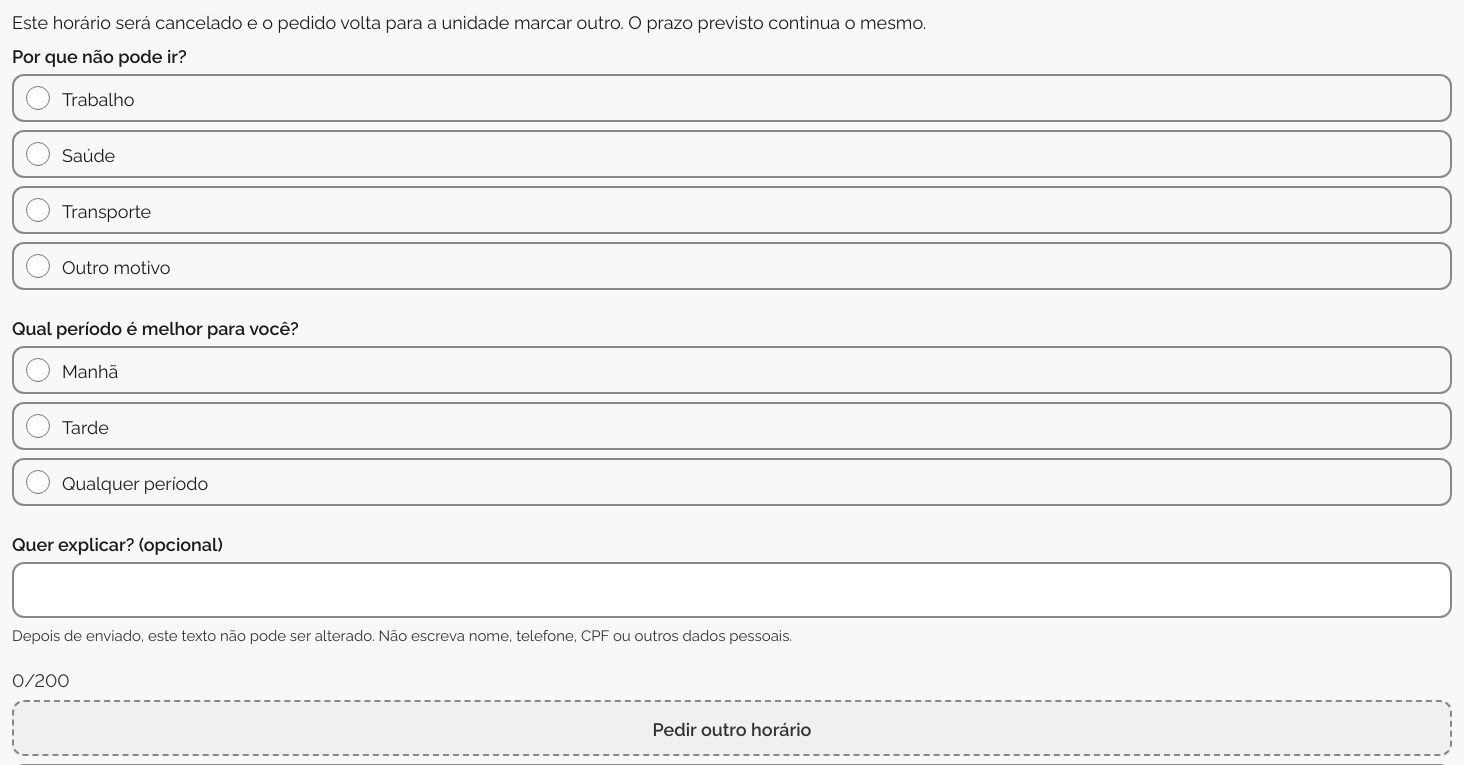
Test: RescheduleForm › explica o que acontece e só libera o envio com motivo e período
Expected: the text "Este horário será cancelado e o pedido volta para a unidade marcar outro. O prazo previsto continua o mesmo." is shown, [12,8,926,33]
Expected: the radio button labelled "Saúde" is shown, [26,142,50,166]
Click the radio button labelled "Trabalho" at (38, 98), box [26,86,50,110]
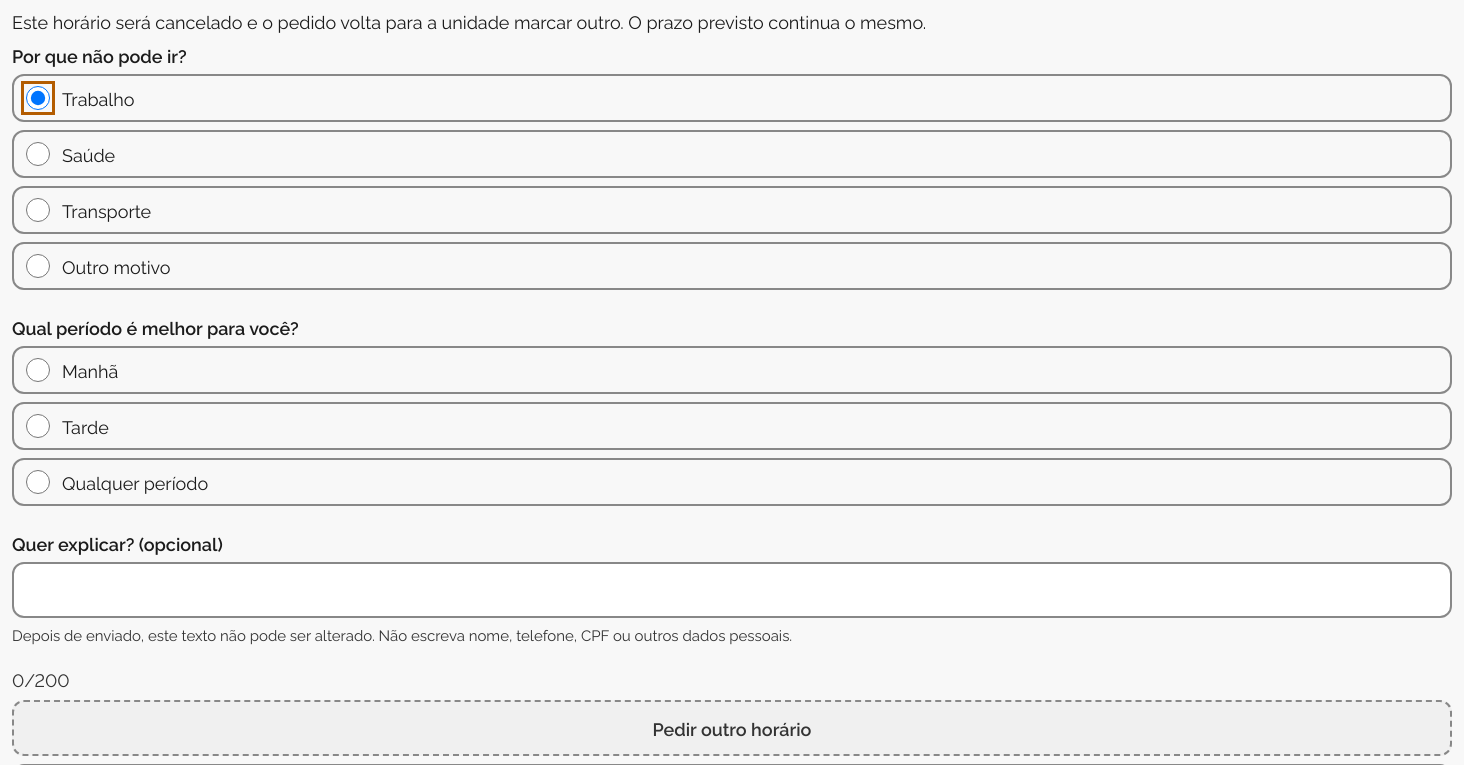
Expected: the button "Pedir outro horário" is disabled, [12,700,1452,756]
Click the radio button labelled "Tarde" at (38, 426), box [26,414,50,438]
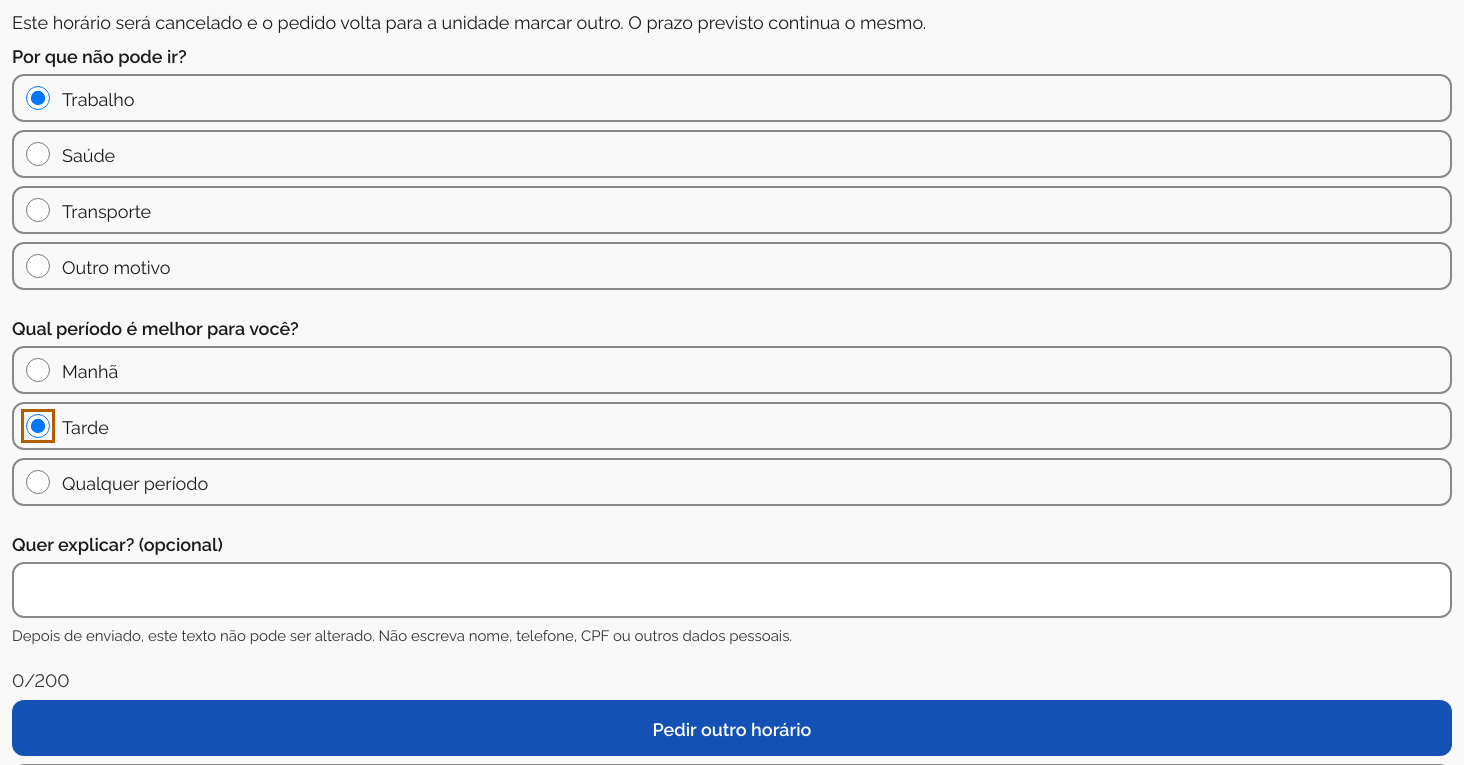
Result: the button "Pedir outro horário" is enabled at [12,700,1452,756]
